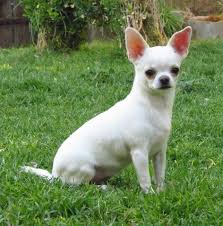chihuahua: (40, 19, 194, 197)
